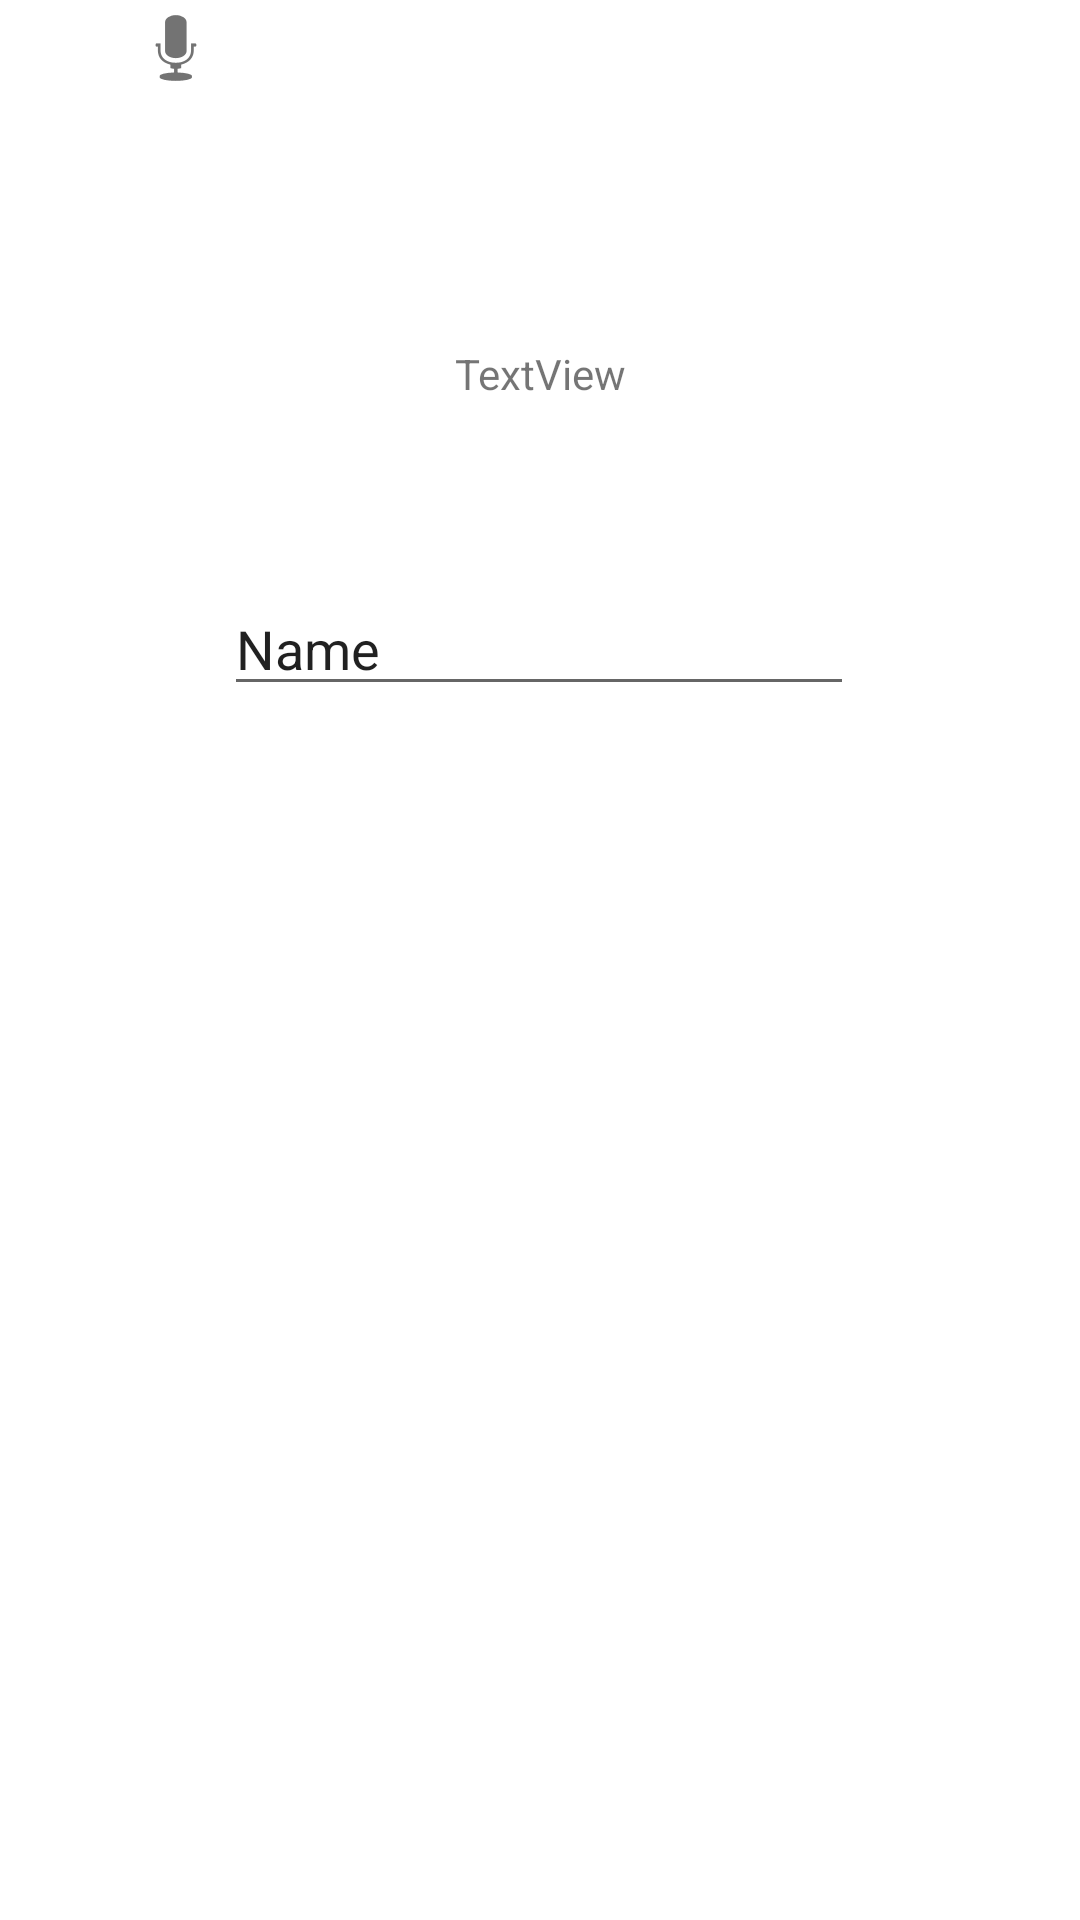

Where icons sit on this 1080 × 1920 app screen, as (x1, y1, x2, y2):
speak now: (155, 15, 197, 81)
